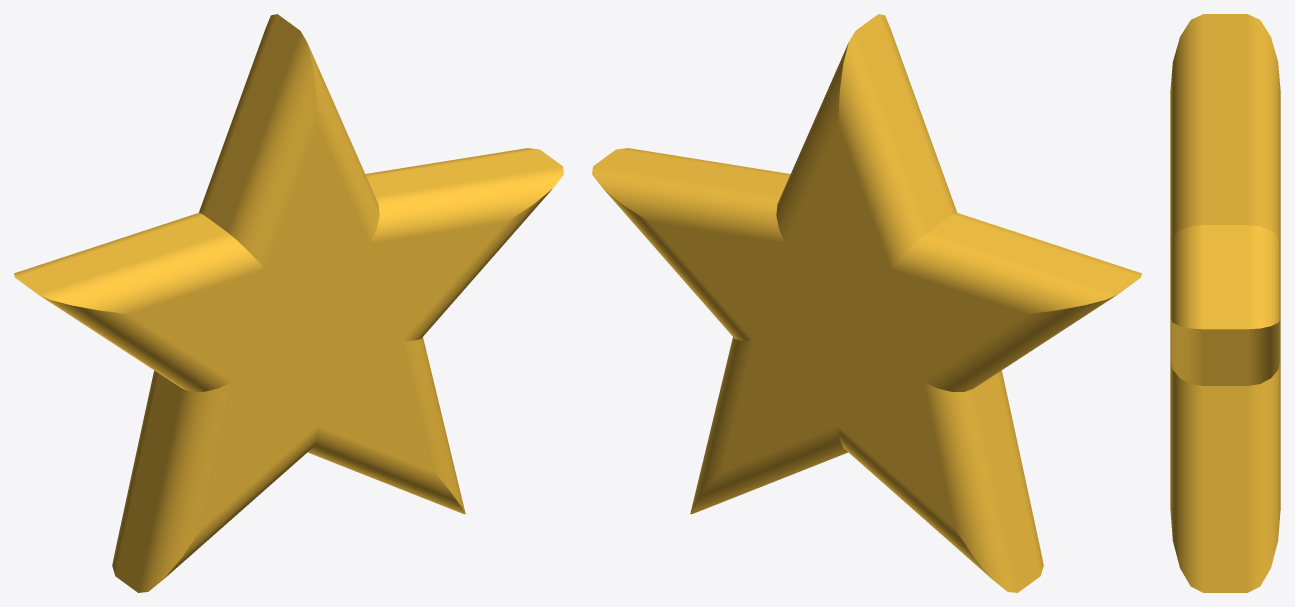
Rendered from star.glb.
3 renders of one model, left to right at view 1: azimuth 30°, elevation 25°; view 2: azimuth 150°, elevation 25°; view 3: azimuth 270°, elevation 25°, orthographic. The views are drawn at different scales.
Visible parts, largest first — view 1: star; view 2: star; view 3: star.
Boxes of the visible parts, x1,y1,x2,y2 form: star: [14, 14, 563, 592]; star: [592, 14, 1141, 592]; star: [1170, 14, 1280, 592].
Size of the model in its own units: 0.9511 by 0.9045 by 0.18.
